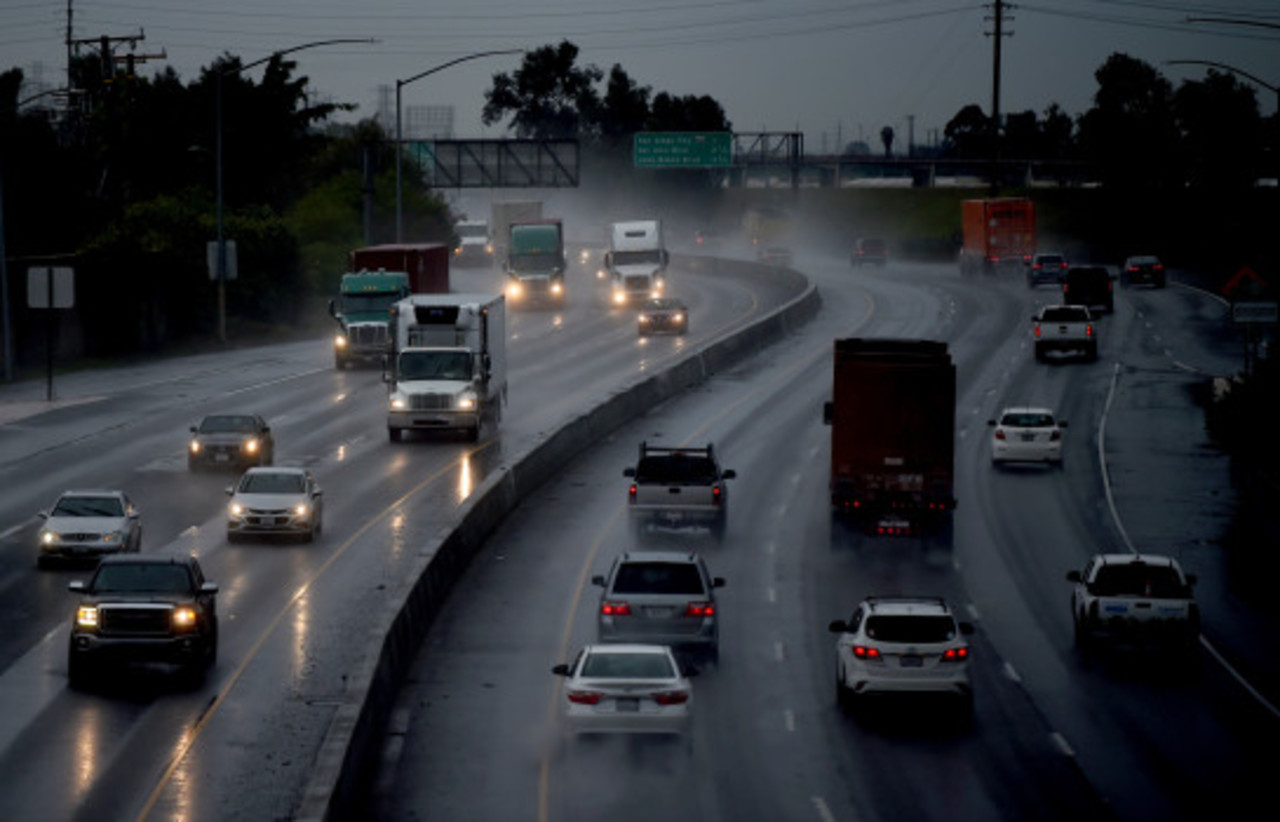car: (64, 551, 220, 699), (831, 595, 974, 714), (596, 552, 724, 674), (555, 642, 694, 741), (1067, 551, 1192, 649), (624, 444, 738, 535), (224, 465, 325, 544), (39, 487, 139, 560), (185, 412, 275, 474), (987, 407, 1065, 469), (1030, 303, 1100, 365), (1062, 265, 1117, 315), (634, 297, 689, 336), (1119, 253, 1174, 287), (847, 235, 890, 274), (1023, 248, 1068, 278), (755, 246, 793, 273)
truck: (824, 336, 957, 550), (384, 304, 507, 434), (333, 247, 448, 363), (953, 197, 1036, 276), (603, 223, 666, 307), (505, 227, 563, 307), (451, 215, 493, 272)
